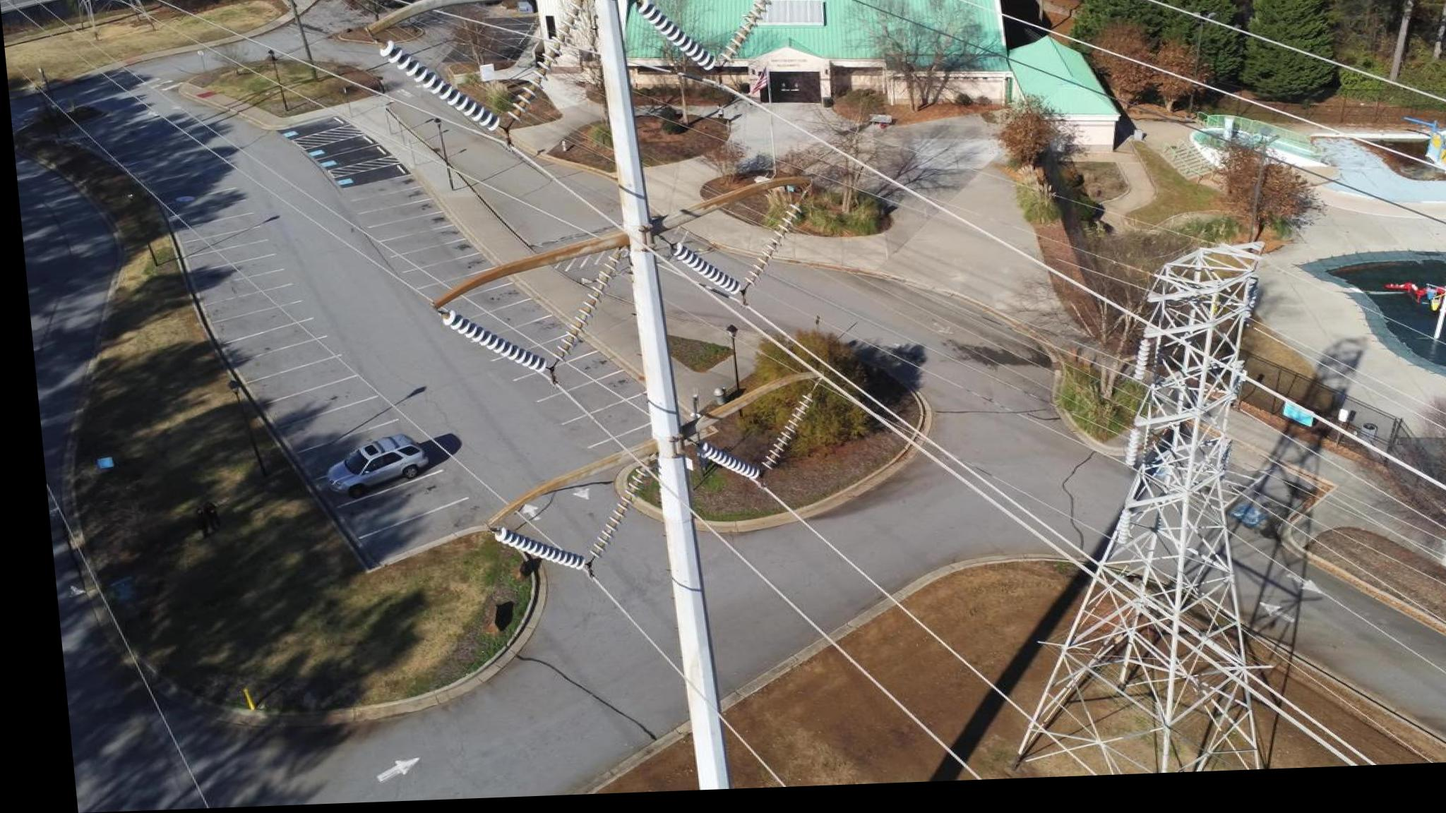tower: (954, 238, 1317, 779)
